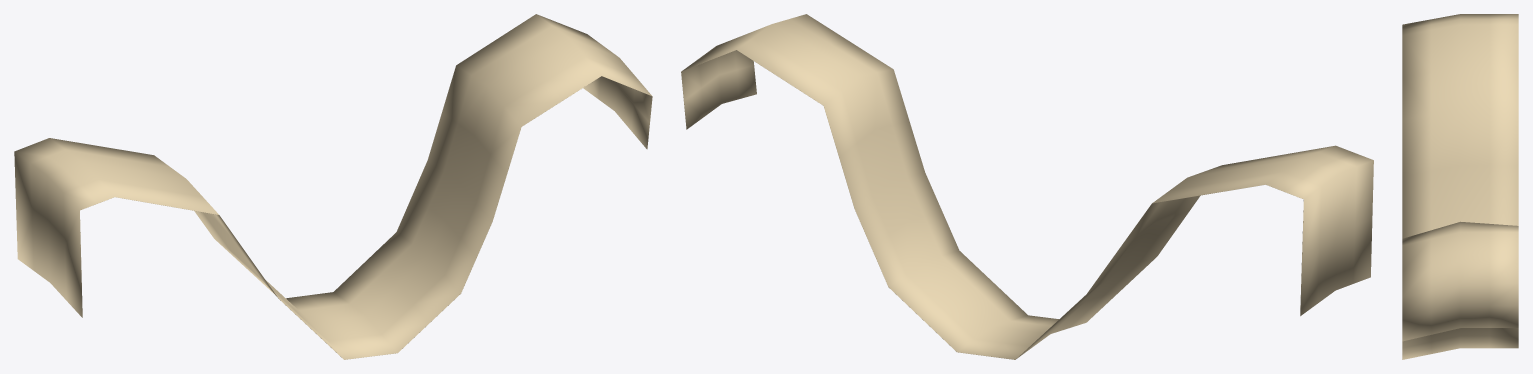
The model's file is Paper.fbx.
3 views of the same model, side by side, from view 1: azimuth 30°, elevation 25°; view 2: azimuth 150°, elevation 25°; view 3: azimuth 270°, elevation 25° (orthographic). The views are drawn at different scales.
Visible parts, largest first — view 1: Paper; view 2: Paper; view 3: Paper.
Part boxes in pixels (x1,y1,x2,y2): Paper: (14,14,652,359); Paper: (681,14,1373,359); Paper: (1402,14,1518,359).
Size of the model in its own units: 55.03 by 22.21 by 10.8.
